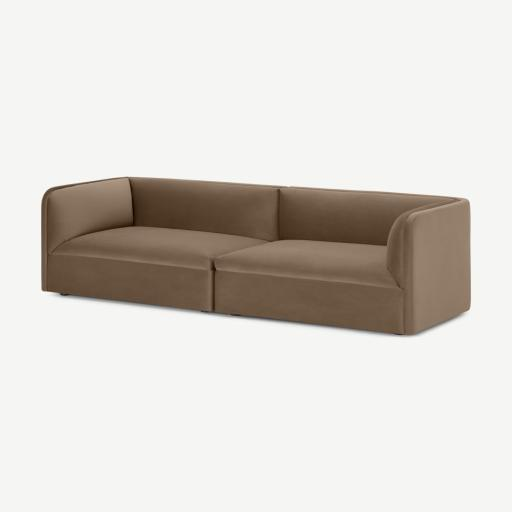back_cushion: (130, 178, 455, 245)
base: (48, 254, 404, 333)
left_arm: (398, 199, 470, 334)
right_arm: (42, 178, 133, 290)
seat_cushion: (50, 227, 396, 288)
two-seater: (0, 0, 511, 512)
